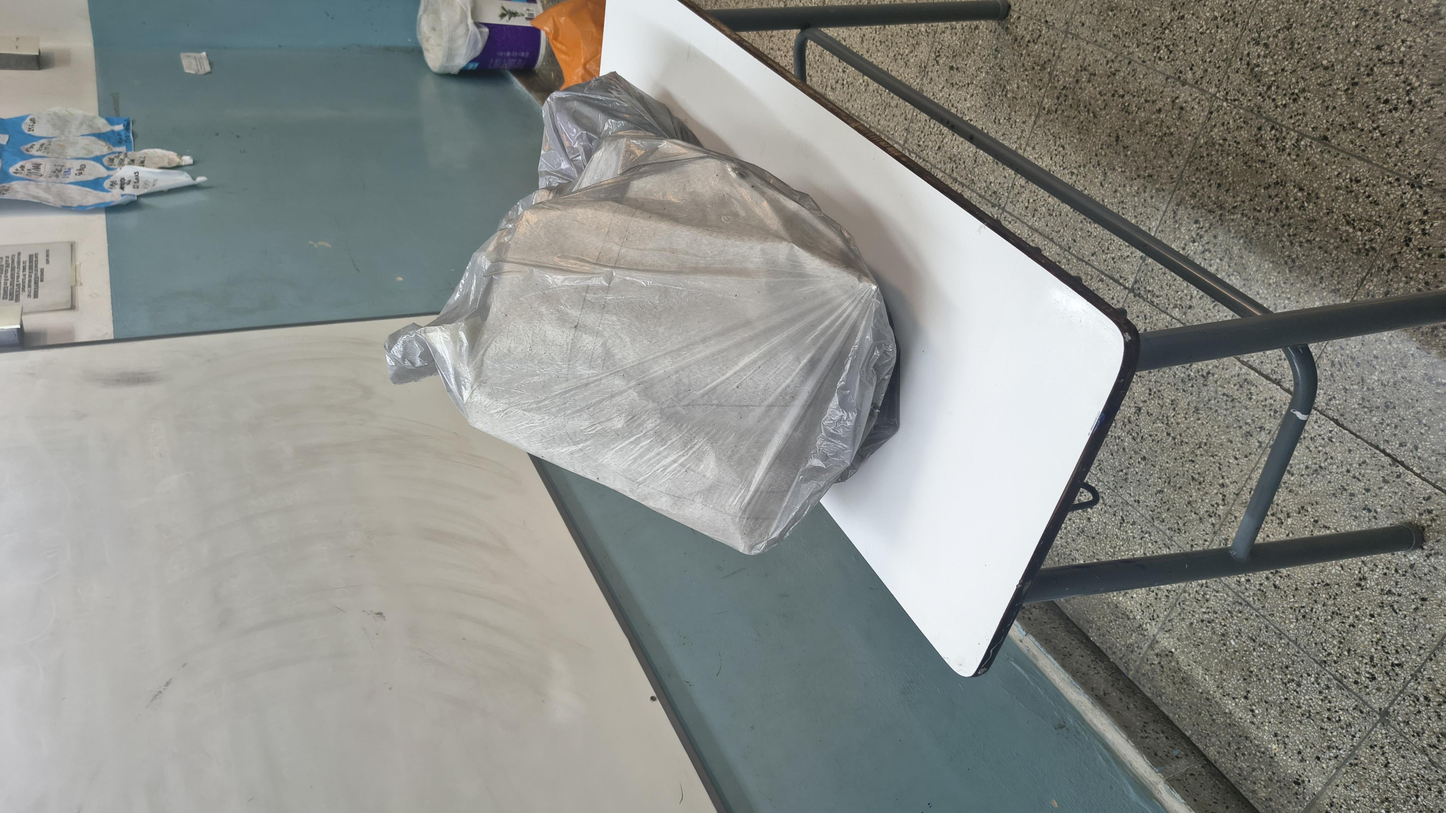Garbage: (395, 173, 1387, 500)
